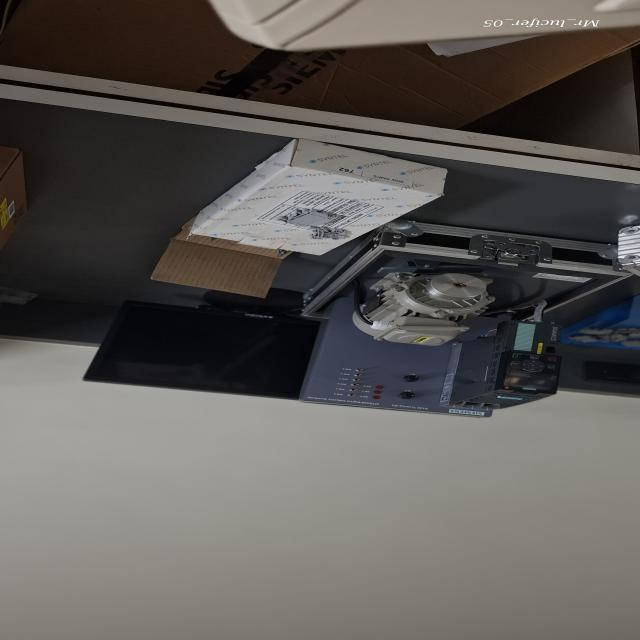Reject: (304, 227, 348, 242)
